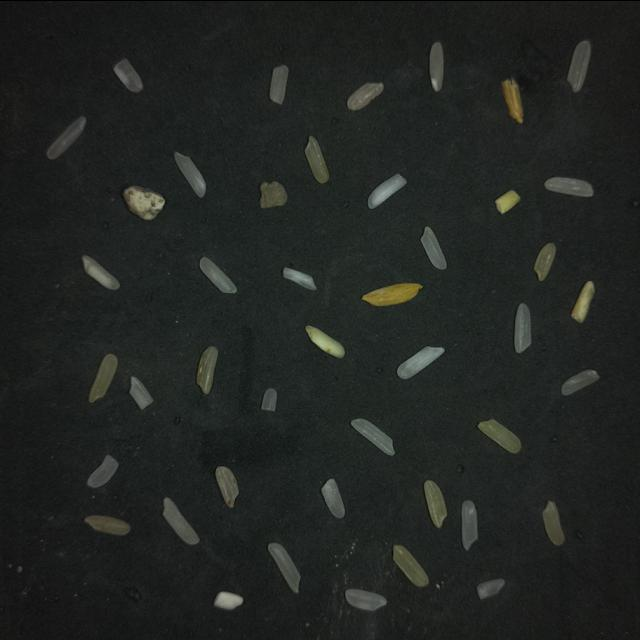broken: (86, 455, 117, 487), (346, 83, 382, 110), (320, 478, 344, 518), (113, 59, 142, 92), (215, 466, 238, 507), (345, 589, 385, 610), (129, 376, 152, 409), (268, 65, 287, 104), (476, 579, 504, 599), (260, 388, 276, 411)
chalky: (396, 347, 443, 379), (81, 255, 119, 290), (367, 174, 405, 209), (305, 326, 344, 358), (282, 268, 316, 290), (213, 591, 242, 610)
discolored: (392, 545, 428, 587), (477, 420, 520, 453), (88, 354, 117, 402), (304, 136, 328, 183), (423, 481, 446, 528), (195, 346, 217, 394), (541, 501, 564, 545), (570, 281, 594, 322), (83, 515, 129, 535), (533, 243, 555, 281), (494, 190, 519, 213)
foreign: (122, 186, 164, 220), (259, 181, 287, 208)
paddy: (361, 283, 422, 306), (501, 78, 522, 123)
whole: (162, 498, 199, 544), (46, 116, 85, 159), (267, 543, 299, 593), (350, 419, 394, 455), (173, 152, 205, 197), (198, 257, 235, 293), (566, 40, 590, 92), (420, 227, 445, 269), (543, 177, 592, 197), (560, 370, 598, 395), (513, 303, 530, 353), (461, 500, 477, 550), (428, 42, 443, 91)
